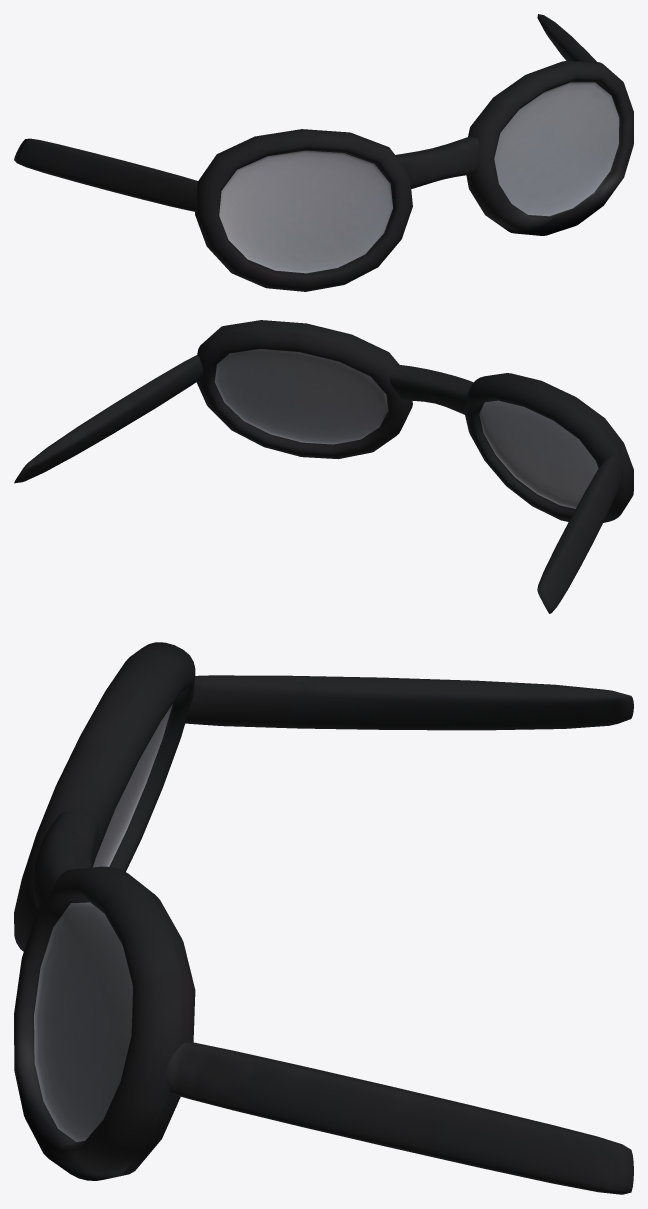
Rendered from glasses_textured.FBX.
3 renders of one model, top to bottom at view 1: azimuth 30°, elevation 25°; view 2: azimuth 150°, elevation 25°; view 3: azimuth 270°, elevation 25°, orthographic. The views are drawn at different scales.
Parts seen in each view (by area): view 1: Sunglasses; view 2: Sunglasses; view 3: Sunglasses.
Boxes of the visible parts, left/top/right/bottom form: Sunglasses: left=14, top=14, right=633, bottom=291; Sunglasses: left=14, top=320, right=633, bottom=613; Sunglasses: left=14, top=642, right=633, bottom=1194.
Bounding box in the file's own units: 80.36 × 20.68 × 44.39.
Materials: 1 (1 with a texture image).
